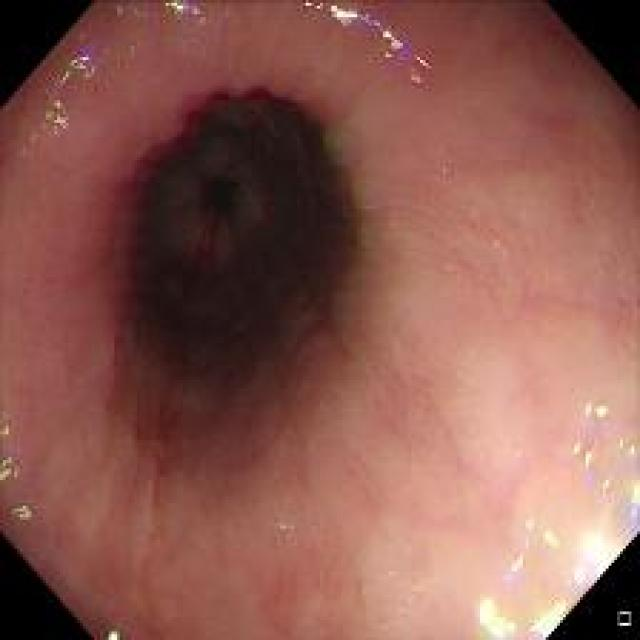blood: (194, 209, 221, 266)
color misalignment: (328, 115, 371, 350), (321, 1, 425, 84), (41, 49, 100, 138), (0, 421, 34, 524), (154, 2, 218, 24), (114, 4, 151, 24), (22, 132, 42, 156), (276, 520, 299, 538), (300, 1, 325, 14), (104, 629, 121, 638)
contrast: (100, 72, 372, 474)
saturation: (576, 528, 624, 590)
specularity: (502, 512, 562, 574), (476, 598, 518, 638), (528, 594, 571, 630), (562, 432, 599, 470), (572, 394, 610, 422), (596, 436, 611, 468), (628, 478, 639, 508), (601, 474, 615, 491), (618, 436, 625, 450), (629, 446, 636, 460)
